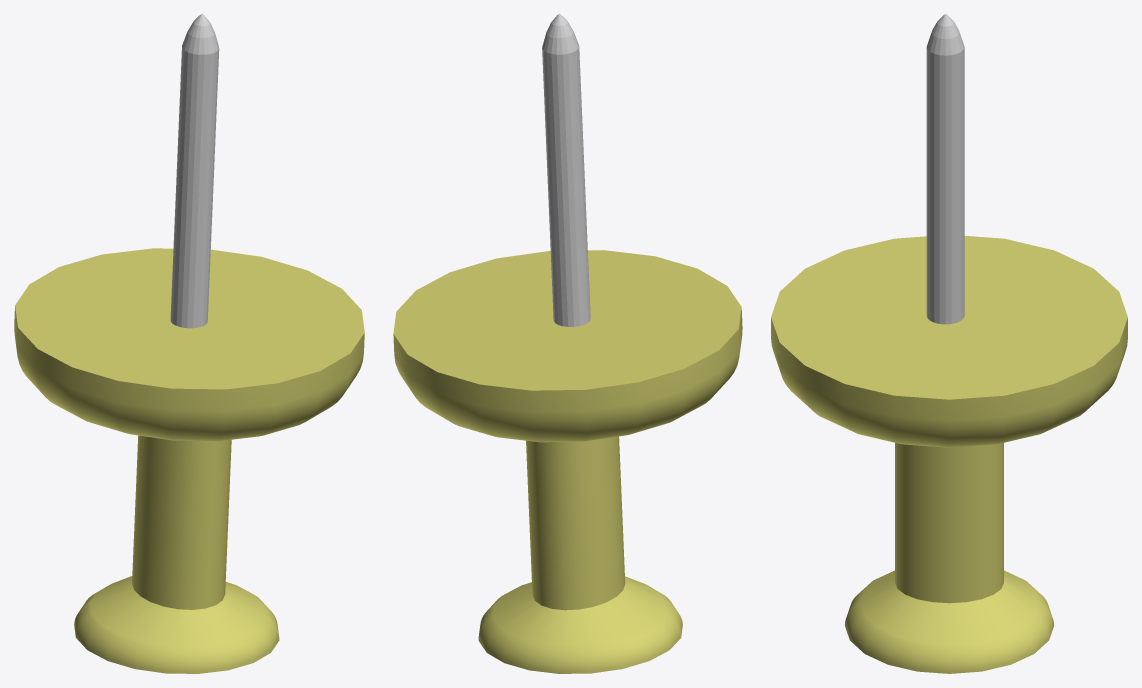
File: YellowThumbtack.fbx
The picture shows the model from 3 angles, left to right: view 1: azimuth 30°, elevation 25°; view 2: azimuth 150°, elevation 25°; view 3: azimuth 270°, elevation 25°; orthographic projection.
Visible parts, largest first — view 1: ThumbtackBod, pCylinder1; view 2: ThumbtackBod, pCylinder1; view 3: ThumbtackBod, pCylinder1.
Part boxes in pixels (left/top/right/bottom): ThumbtackBod: left=14, top=248, right=364, bottom=673; pCylinder1: left=170, top=14, right=219, bottom=328; ThumbtackBod: left=393, top=250, right=742, bottom=673; pCylinder1: left=542, top=14, right=590, bottom=326; ThumbtackBod: left=771, top=235, right=1127, bottom=673; pCylinder1: left=926, top=14, right=964, bottom=324.
Size of the model in its own units: 3.41 by 6.6 by 3.41.
